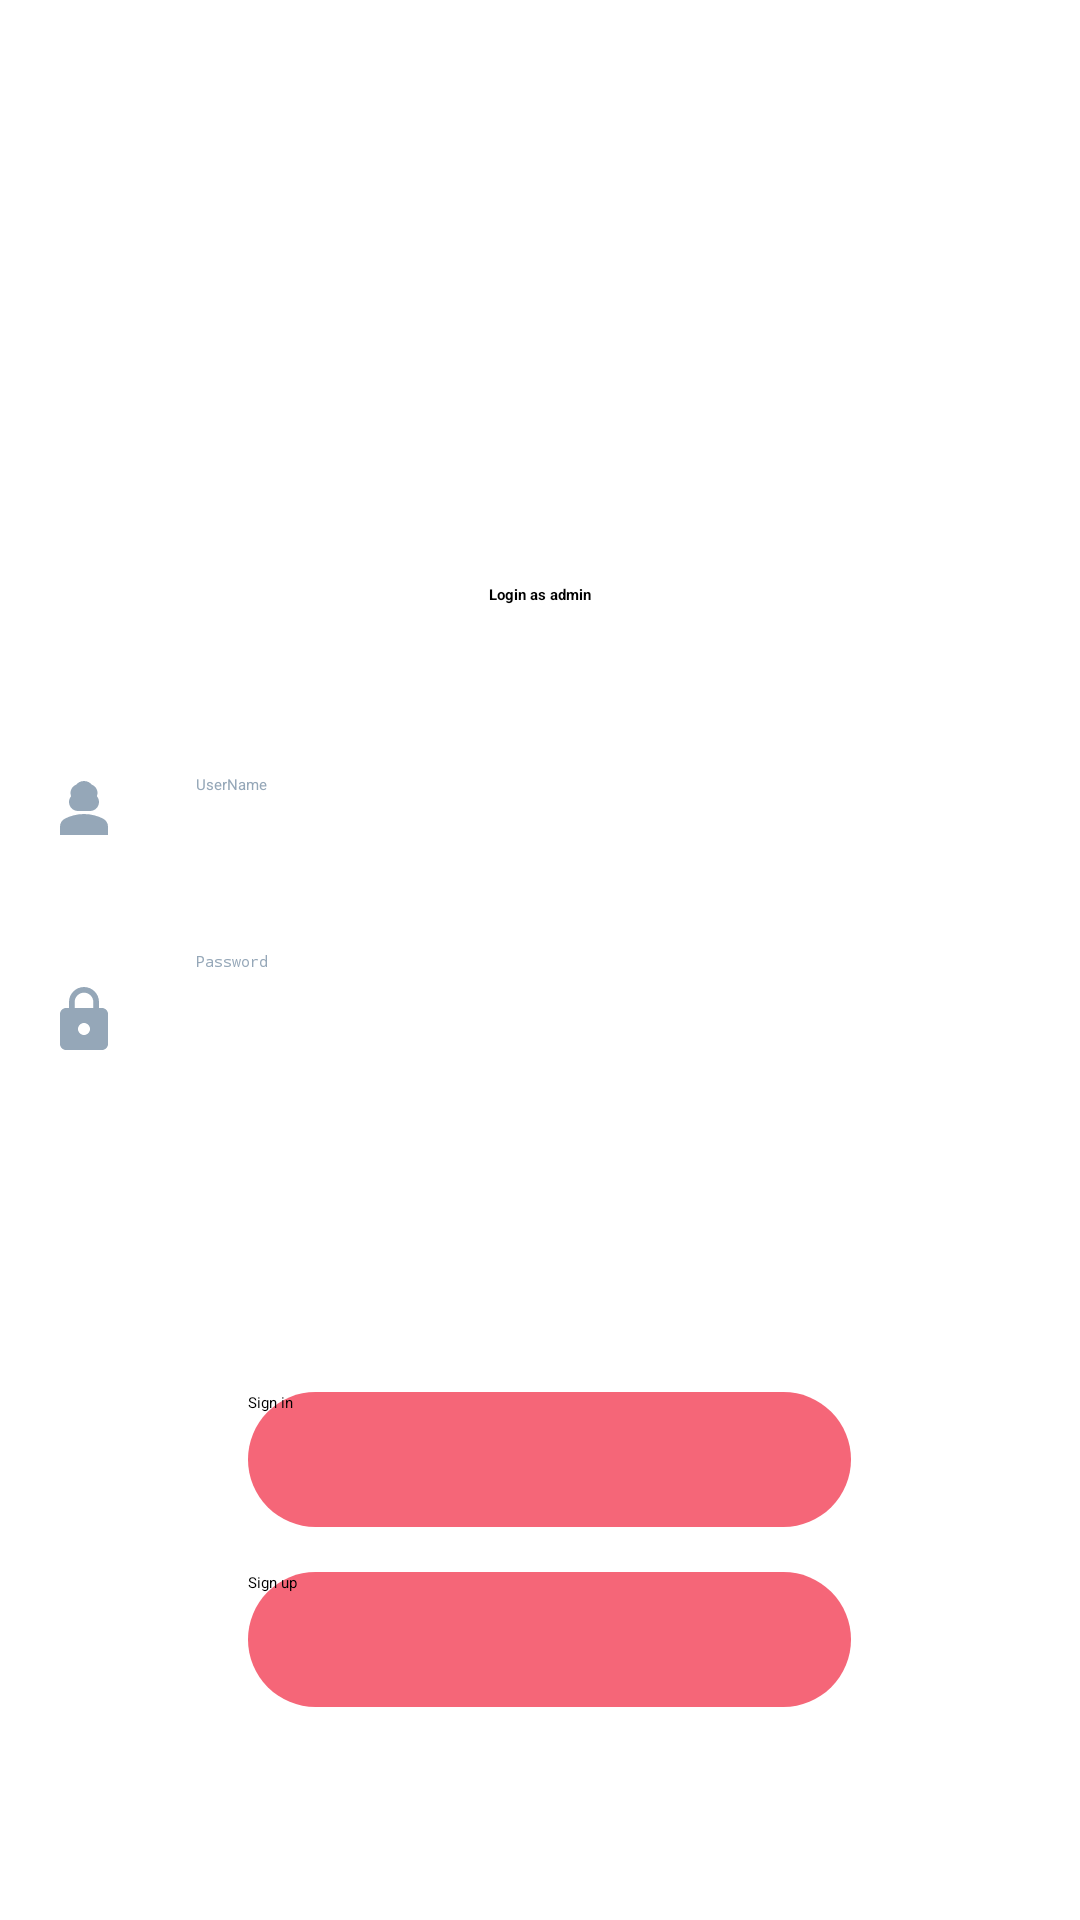

Where icons sit on this 1080w x 1920h app screen, as (x1, y1, x2, y2):
lock: (60, 987, 108, 1050)
person: (60, 781, 108, 835)
